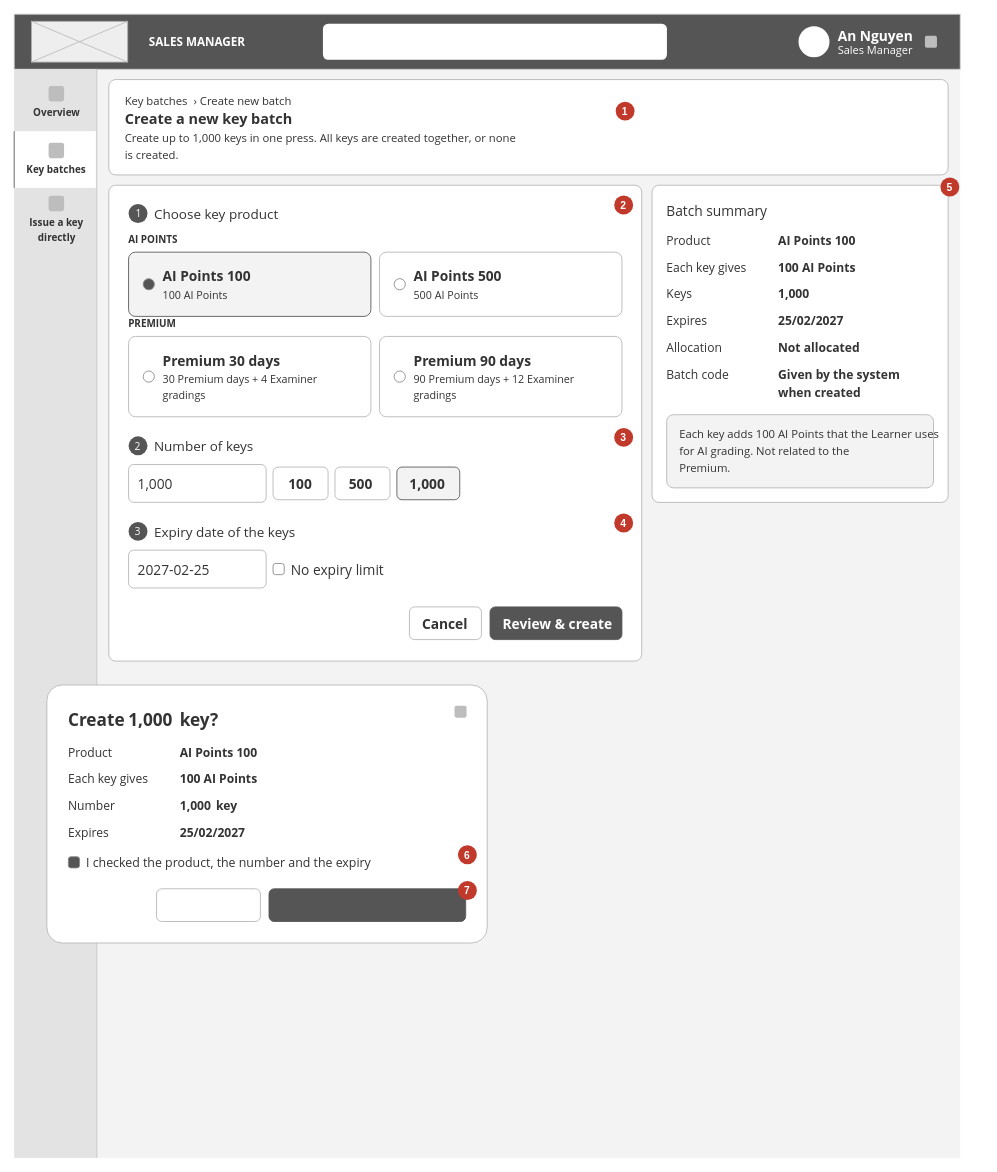
This 997x1172 diagram has some shape labels left out. The shapes that lost their labels are listed below. From the top down, each one's centre as x and y in pixels, then its label:
At (494,41): "Search this page".
At (813,41): "AN".
At (208,904): "Back to edit".
At (367,904): "Create batch (1,000 keys)".
